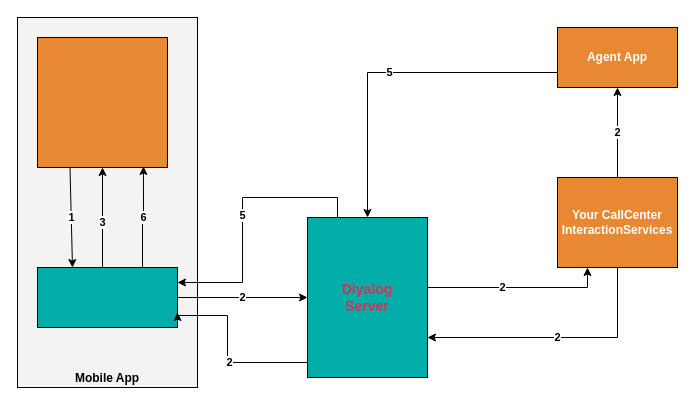
Some shapes in this 695 by 405 pixel diagram are drawn without their labels. The centre of each missing label's shape, as x and y in pixels:
"DiyalogSDK" goes at pixel 107 297.
"Your Mobile Application Code" goes at pixel 102 102.
